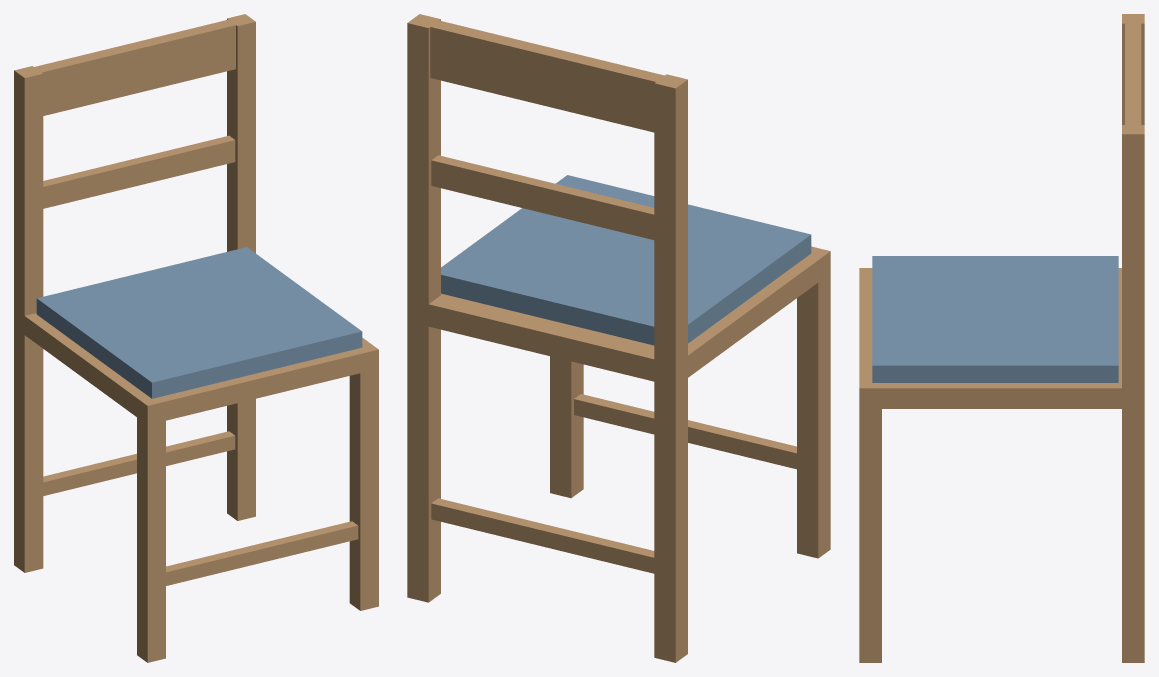
The model's file is chair.glb.
3 renders of one model, left to right at view 1: azimuth 30°, elevation 25°; view 2: azimuth 150°, elevation 25°; view 3: azimuth 270°, elevation 25°, orthographic. The views are drawn at different scales.
Visible parts, largest first — view 1: chair; view 2: chair; view 3: chair.
Part boxes in pixels (box(x1,y1,x2,y2)): chair: box(14, 14, 378, 662); chair: box(407, 14, 830, 662); chair: box(859, 14, 1144, 662).
Size of the model in its own units: 0.44 by 0.9 by 0.44.
